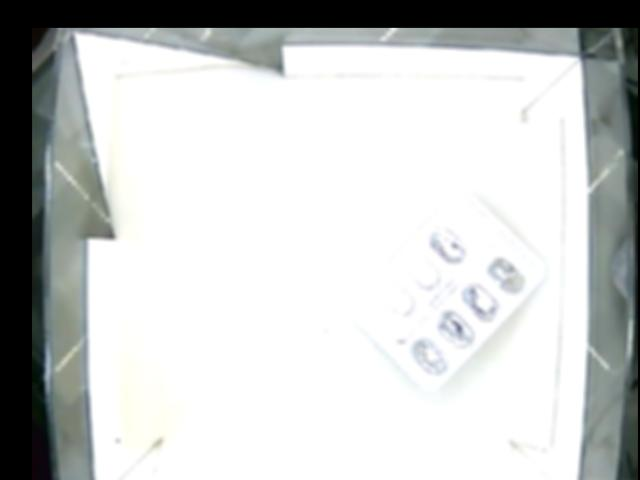Medicine: (346, 190, 547, 388)
